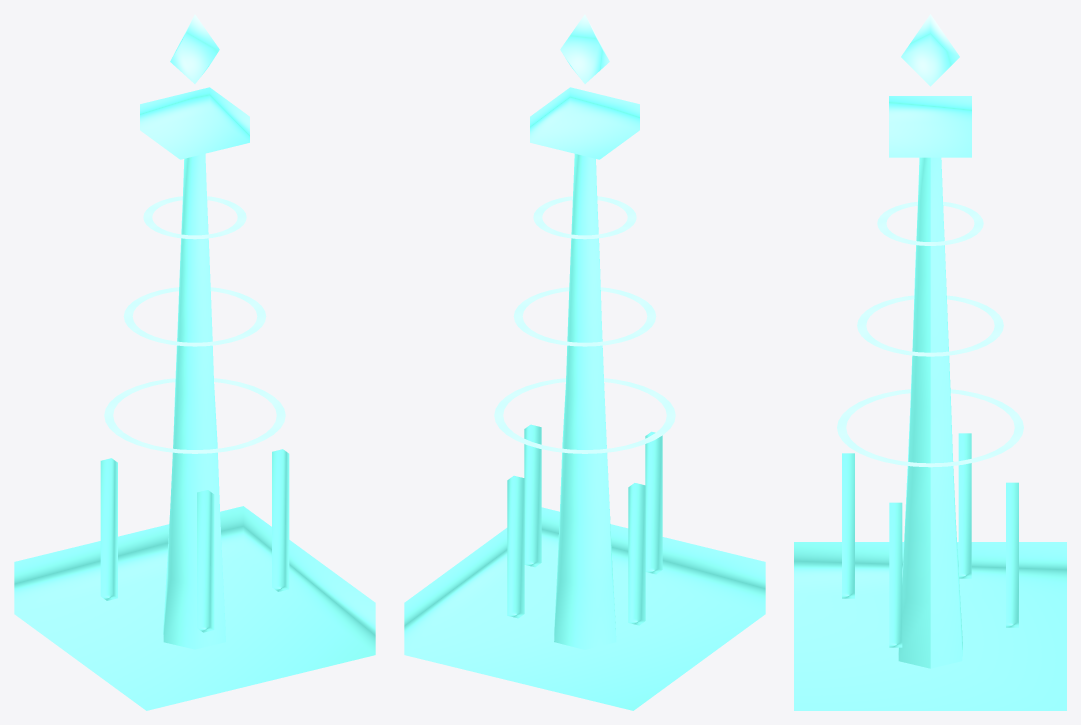
Rendered from facility_pylon.glb.
3 views of the same model, side by side, from view 1: azimuth 30°, elevation 25°; view 2: azimuth 150°, elevation 25°; view 3: azimuth 270°, elevation 25° (orthographic). The views are drawn at different scales.
Parts seen in each view (by area): view 1: facility_pylon; view 2: facility_pylon; view 3: facility_pylon.
Boxes of the visible parts, box(x1,y1,x2,y2) form: facility_pylon: box(14, 14, 375, 710); facility_pylon: box(404, 14, 765, 710); facility_pylon: box(794, 14, 1066, 710).
Bounding box in the file's own units: 4.6 × 11.9 × 4.6.
